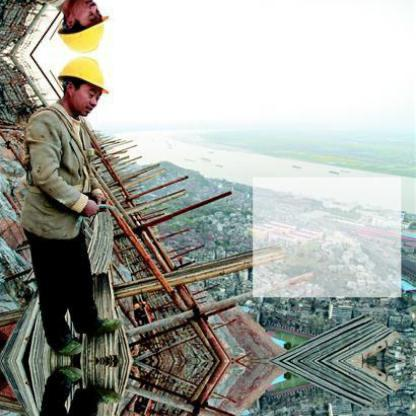Helmet: (56, 53, 114, 111), (56, 0, 114, 54)
